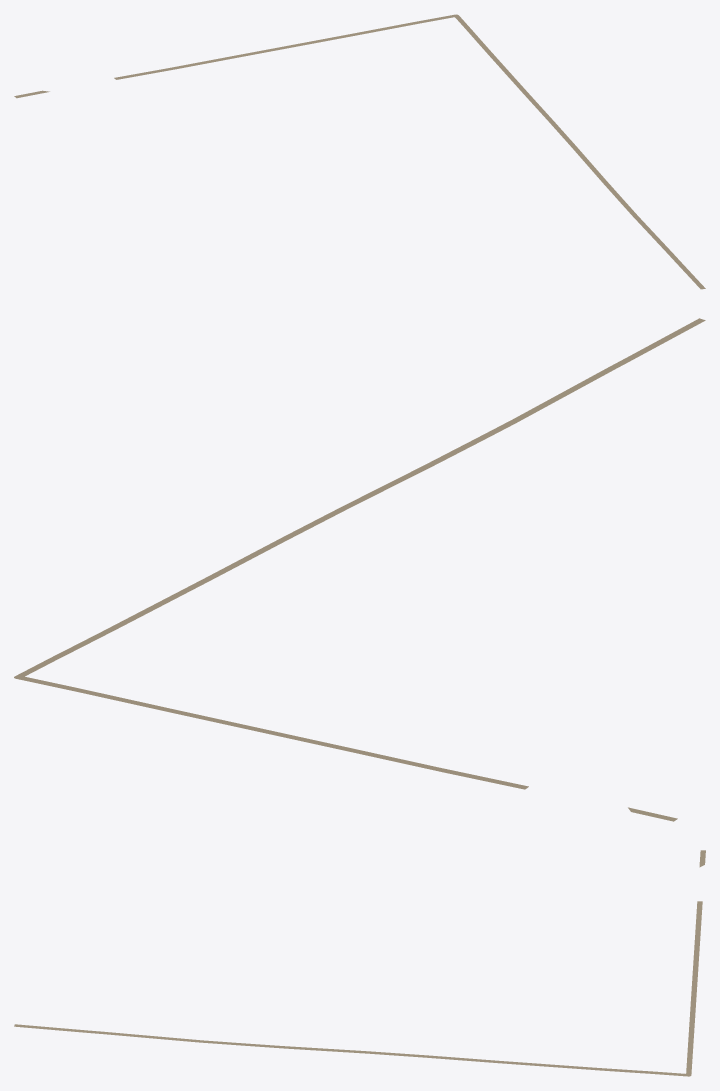
Rendered from farm_5_17_track.glb.
3 renders of one model, top to bottom at view 1: azimuth 30°, elevation 25°; view 2: azimuth 150°, elevation 25°; view 3: azimuth 270°, elevation 25°, orthographic. The views are drawn at different scales.
Visible parts, largest first — view 1: geometry_0; view 2: geometry_0; view 3: geometry_0.
Boxes of the visible parts, x1,y1,x2,y2 form: geometry_0: [14, 14, 705, 289]; geometry_0: [14, 318, 705, 821]; geometry_0: [14, 850, 705, 1076].
Bounding box in the file's own units: 299 × 12.39 × 420.
